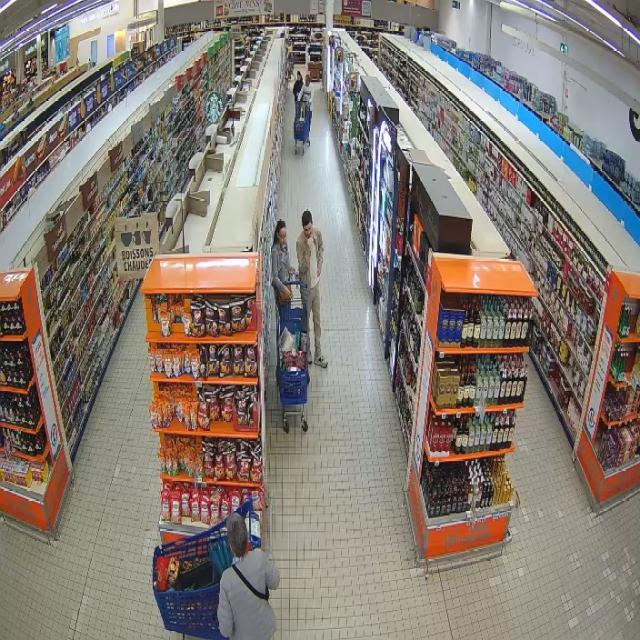bags: (233, 566, 268, 599)
person: (217, 513, 278, 639), (296, 210, 325, 367), (271, 219, 292, 300), (301, 73, 313, 111), (293, 72, 303, 101)
